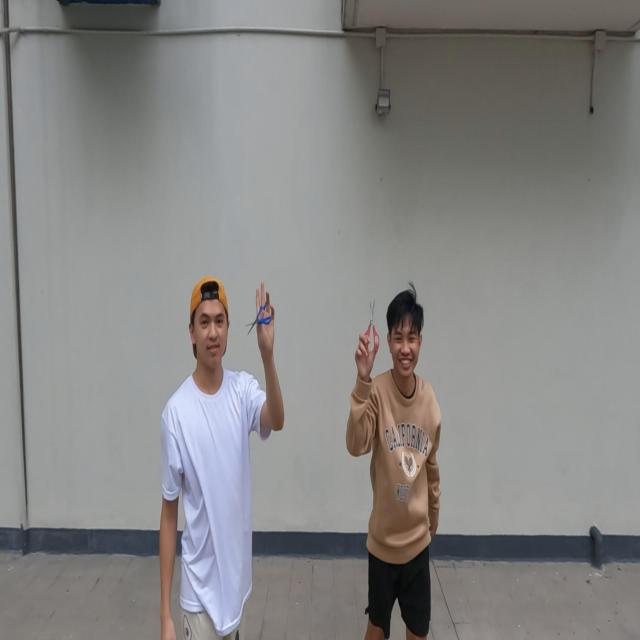scissor: (245, 302, 274, 338), (362, 300, 381, 352)
